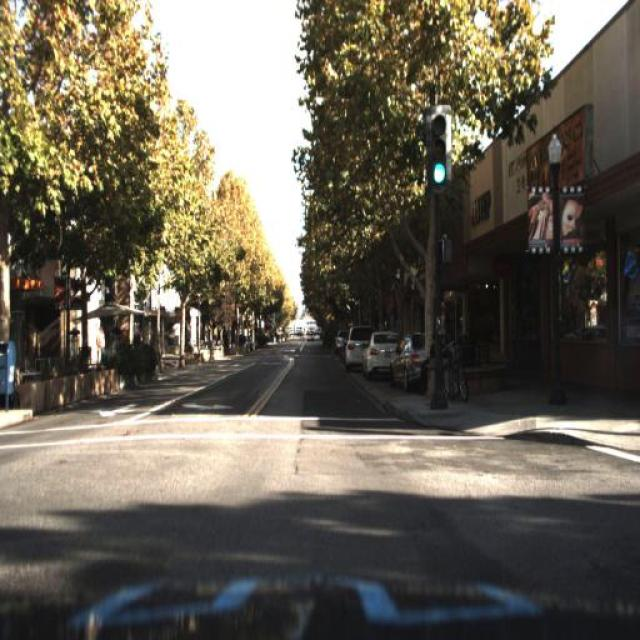car: (392, 327, 432, 395), (361, 328, 397, 377), (362, 331, 393, 377), (347, 319, 372, 370), (342, 328, 363, 373)
trafficLight: (622, 285, 639, 384), (422, 326, 440, 392), (94, 316, 108, 379)
trafficLight-Green: (432, 108, 448, 188)
